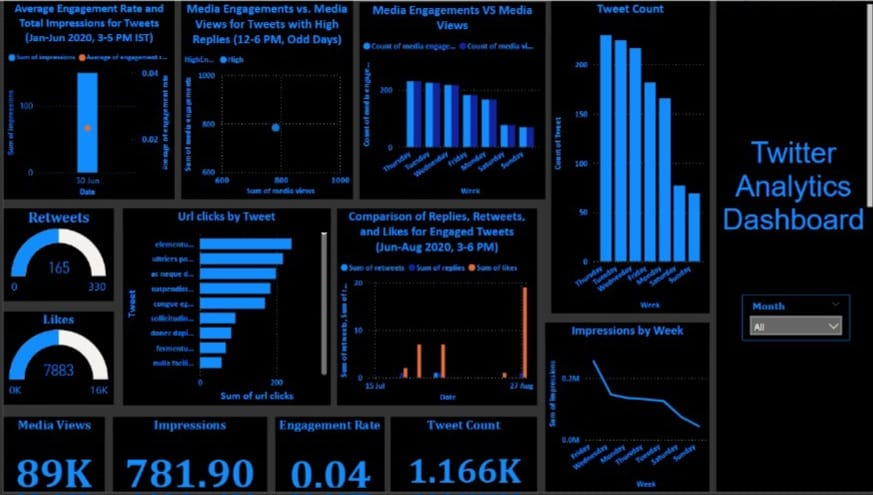

The page's visual inventory and layout, read from the dashboard file:
{"tool":"powerbi","page":{"name":"Page 1","canvas":[1280,720],"ordinal":0},"visuals":[{"type":"textbox","box":[1045.5,0,234.8,720.2],"z":0},{"type":"cardVisual","title":"Media Views","fields":{"Data":["Sum(SocialMedia.media views)"]},"box":[0,610.2,148,110.1],"z":1000},{"type":"cardVisual","title":"Impressions","fields":{"Data":["Avg(SocialMedia.impressions)"]},"box":[160.2,610.2,226.2,110.1],"z":2000},{"type":"cardVisual","title":"Engagement Rate","fields":{"Data":["Avg(SocialMedia.engagement rate)"]},"box":[398.6,610.2,160.2,110.1],"z":3000},{"type":"cardVisual","title":"Tweet Count","fields":{"Data":["CountNonNull(SocialMedia.Tweet)"]},"box":[567.4,610.2,215.2,110.1],"z":4000},{"type":"gauge","title":"Likes","fields":{"Y":["Sum(SocialMedia.likes)"]},"box":[0,456.1,161.4,135.7],"z":5000},{"type":"gauge","title":"Retweets","fields":{"Y":["Max(SocialMedia.retweets)"]},"box":[0,304.5,161.4,135.7],"z":6000},{"type":"slicer","title":"Month","fields":{"Values":["SocialMedia.Month"]},"box":[1083.3,430,158.3,68.3],"z":7000},{"type":"lineChart","title":"Tweet by Week","fields":{"Category":["SocialMedia.DayWeek"],"Y":["CountNonNull(SocialMedia.Tweet)"]},"box":[0,0,326.5,288.6],"z":8000},{"type":"lineChart","title":"Impressions by Week","fields":{"Category":["SocialMedia.Week"],"Y":["Sum(SocialMedia.impressions)"]},"box":[794.8,472,240.9,248.2],"z":9000},{"type":"clusteredColumnChart","title":"Media Engagements VS Media Views","fields":{"Category":["SocialMedia.Week"],"Y":["CountNonNull(SocialMedia.media engagements)","CountNonNull(SocialMedia.media views)"]},"box":[348.5,0,434.1,289.8],"z":10000},{"type":"clusteredBarChart","title":"Url clicks by Tweet","fields":{"Category":["SocialMedia.Tweet"],"Y":["Sum(SocialMedia.url clicks)"]},"box":[174.9,304.5,369,289],"z":11000},{"type":"pieChart","title":"Hashtag clicks, Url clicks and User profile clicks","fields":{"Y":["Sum(SocialMedia.hashtag clicks)","Sum(SocialMedia.url clicks)","Sum(SocialMedia.user profile clicks)"]},"box":[558.8,306.9,223.8,289.8],"z":12000},{"type":"clusteredColumnChart","title":"Tweet Count","fields":{"Category":["SocialMedia.Week"],"Y":["CountNonNull(SocialMedia.Tweet)"]},"box":[794.8,0,240.9,464.7],"z":13000}]}

Visuals, with their boxes in screenshot pixels (x1, y1, x2, y2), scaled from the page's 1280x720 canvas onto the 873x495 screenshot:
textbox: 713, 0, 872, 494
"Media Views" cardVisual: 0, 420, 101, 494
"Impressions" cardVisual: 109, 420, 264, 494
"Engagement Rate" cardVisual: 272, 420, 381, 494
"Tweet Count" cardVisual: 387, 420, 534, 494
"Likes" gauge: 0, 314, 110, 407
"Retweets" gauge: 0, 209, 110, 303
"Month" slicer: 739, 296, 847, 343
"Tweet by Week" lineChart: 0, 0, 223, 198
"Impressions by Week" lineChart: 542, 324, 706, 494
"Media Engagements VS Media Views" clusteredColumnChart: 238, 0, 534, 199
"Url clicks by Tweet" clusteredBarChart: 119, 209, 371, 408
"Hashtag clicks, Url clicks and User profile clicks" pieChart: 381, 211, 534, 410
"Tweet Count" clusteredColumnChart: 542, 0, 706, 319
